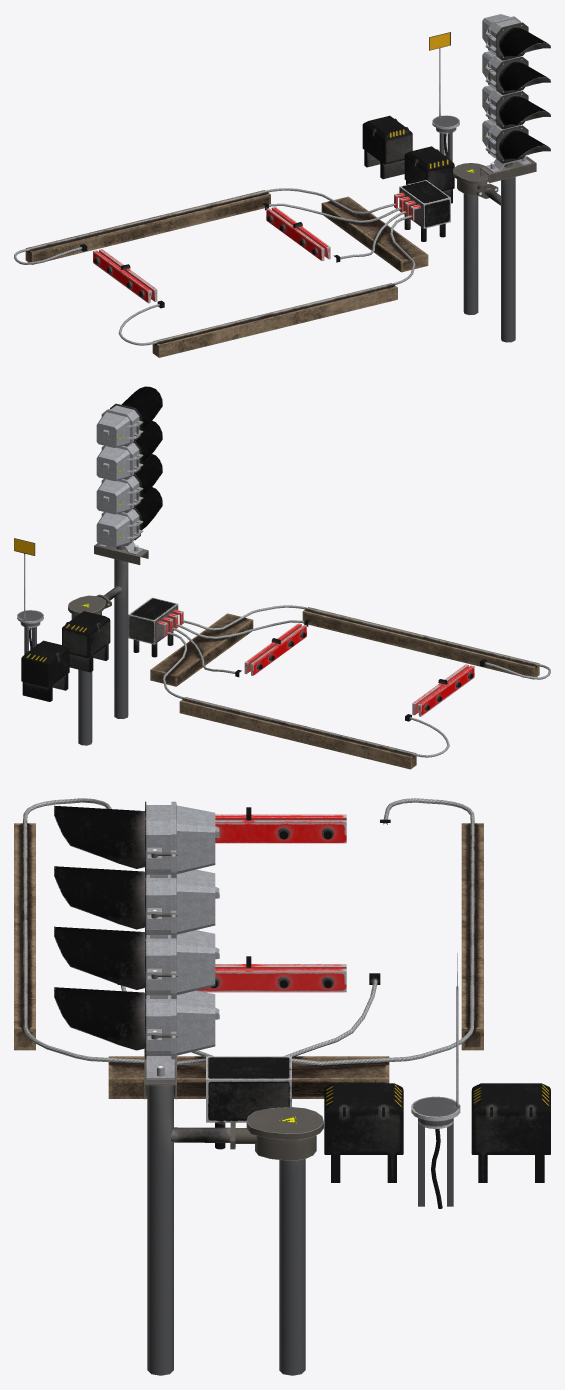
Rendered from RM_sig_P_KM1_YGRW_4_rout.gltf.
3 views of the same model, one above another, from view 1: azimuth 30°, elevation 25°; view 2: azimuth 150°, elevation 25°; view 3: azimuth 270°, elevation 25° (orthographic). The views are drawn at different scales.
Visible parts, largest first — view 1: Изостык, Светоор 4; view 2: Изостык, Светоор 4; view 3: Светоор 4, Изостык.
Part boxes in pixels (bbox=[...]): Изостык: bbox=[14, 32, 459, 357]; Светоор 4: bbox=[453, 14, 550, 342]; Изостык: bbox=[14, 538, 550, 769]; Светоор 4: bbox=[68, 386, 162, 745]; Светоор 4: bbox=[54, 801, 323, 1375]; Изостык: bbox=[14, 798, 550, 1208].
Size of the model in its own units: 4.06 by 2.8 by 2.43.
2 materials, 2 textured.
